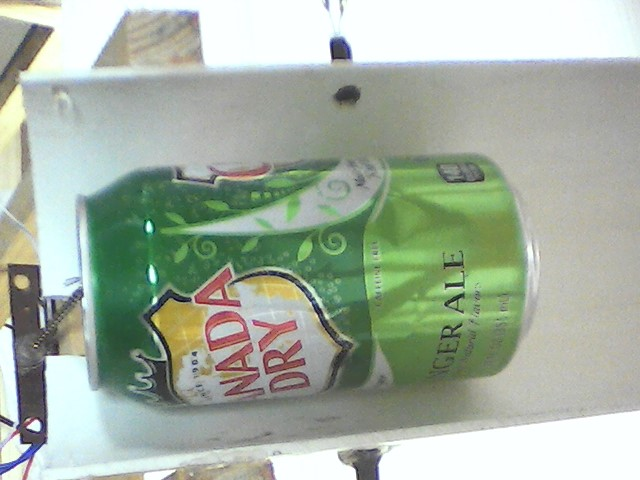lata: (70, 147, 546, 416)
